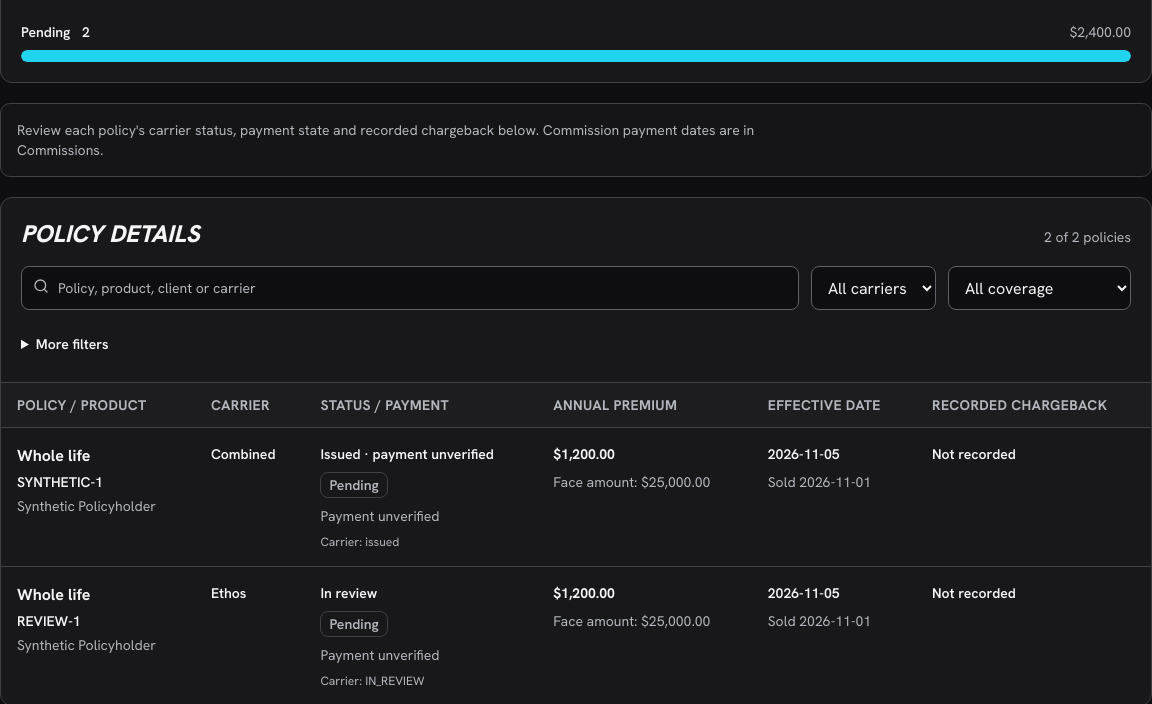
Test case: personal financial policy book › filters a pre-issue status when the carrier has no later raw status
(page scrolled)
Click the heading "More filters" at (72, 344), box [36,335,108,353]
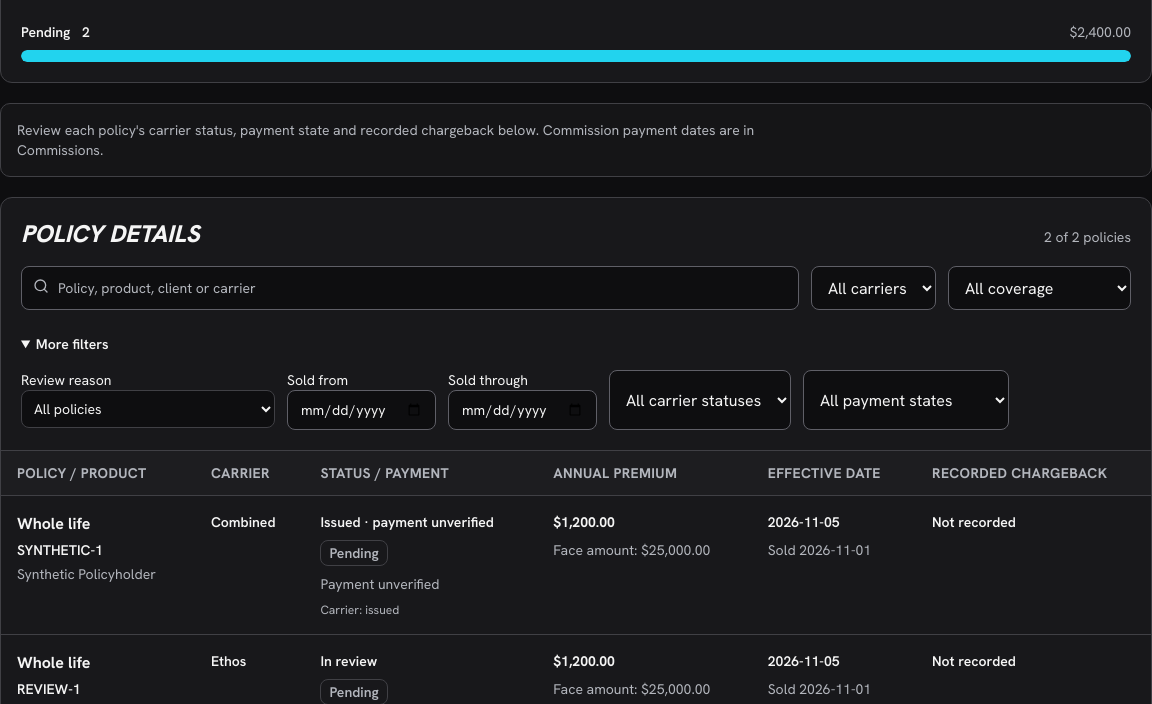
Select "IN_REVIEW" in the dropdown named "Carrier issue status" at (700, 400), box [609,370,791,430]
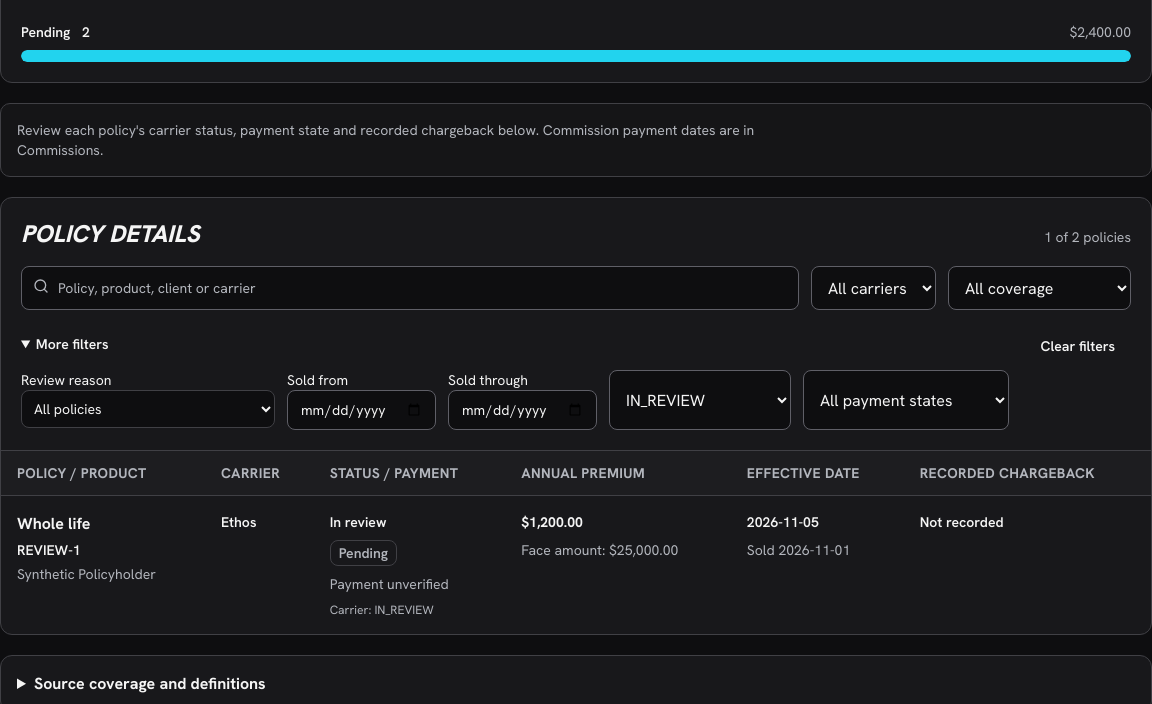
expect the text "REVIEW-1" is shown: met, box [17,541,81,559]
expect the text "SYNTHETIC-1" is gone: met
expect the text "1 of 2 policies" is shown: met, box [1044,227,1131,247]
